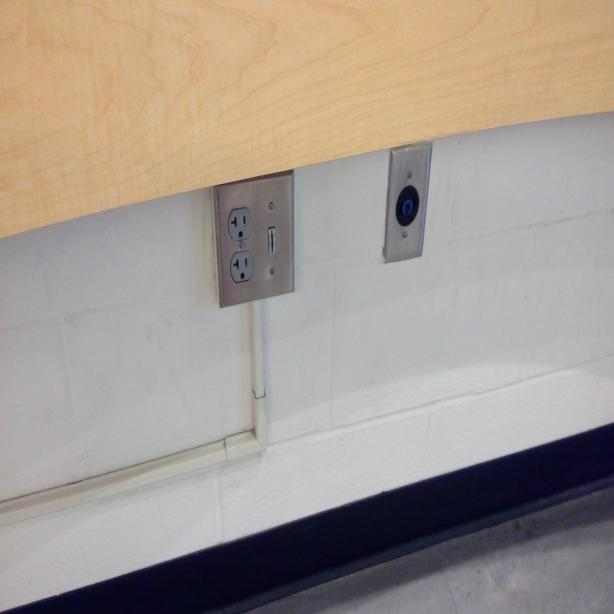typeb: (229, 202, 253, 242), (230, 249, 255, 287)
